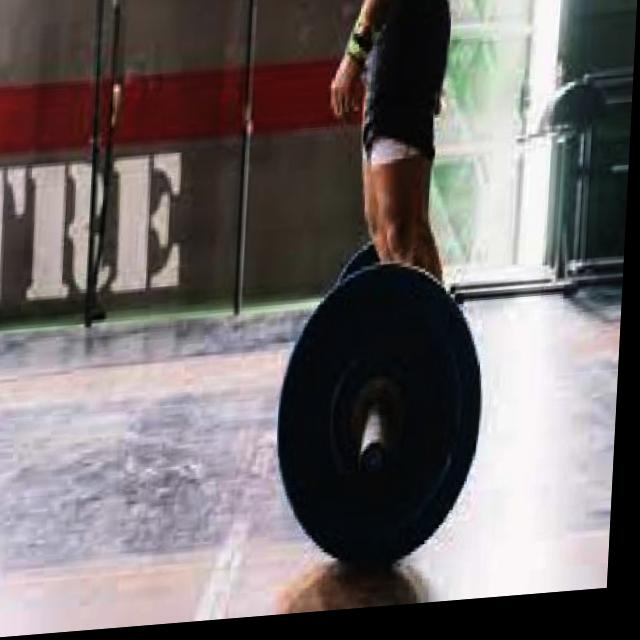barbell: (271, 252, 502, 589)
